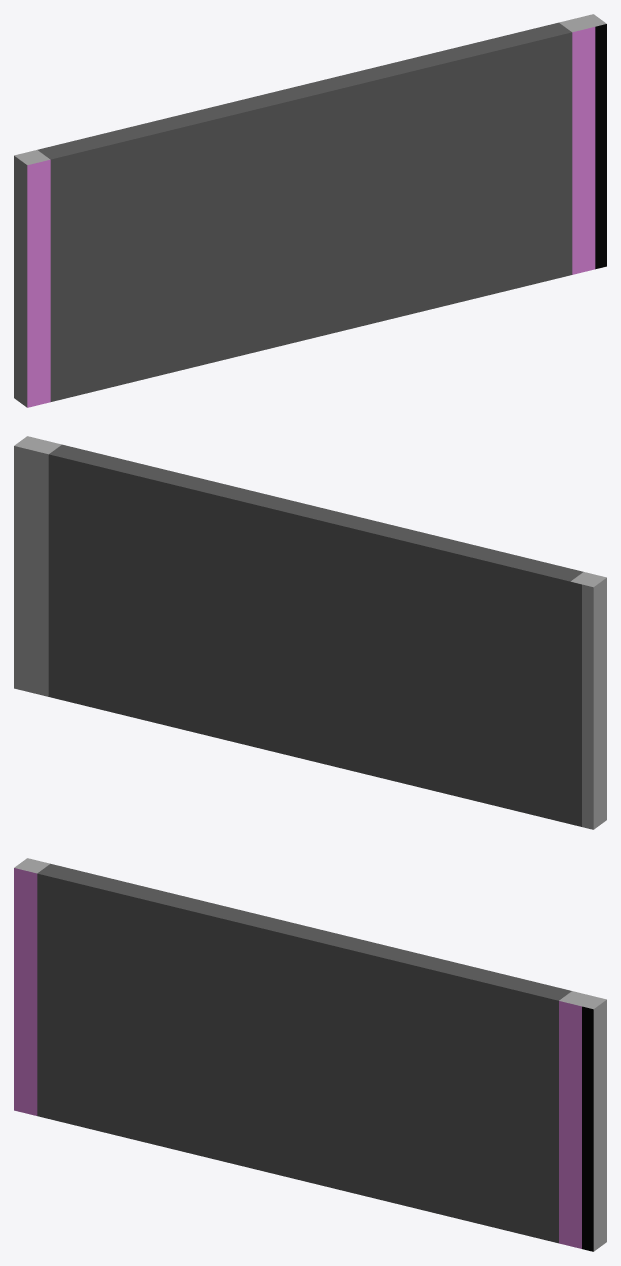
File: wallprt4.fbx
3 views of the same model, one above another, from view 1: azimuth 30°, elevation 25°; view 2: azimuth 150°, elevation 25°; view 3: azimuth 330°, elevation 25° (orthographic).
Visible parts, largest first — view 1: pCube1; view 2: pCube1; view 3: pCube1.
Part boxes in pixels (x1,y1,x2,y2): pCube1: [14, 14, 606, 407]; pCube1: [14, 436, 606, 829]; pCube1: [14, 858, 606, 1251].
Bounding box in the file's own units: 25 × 10 × 1.
